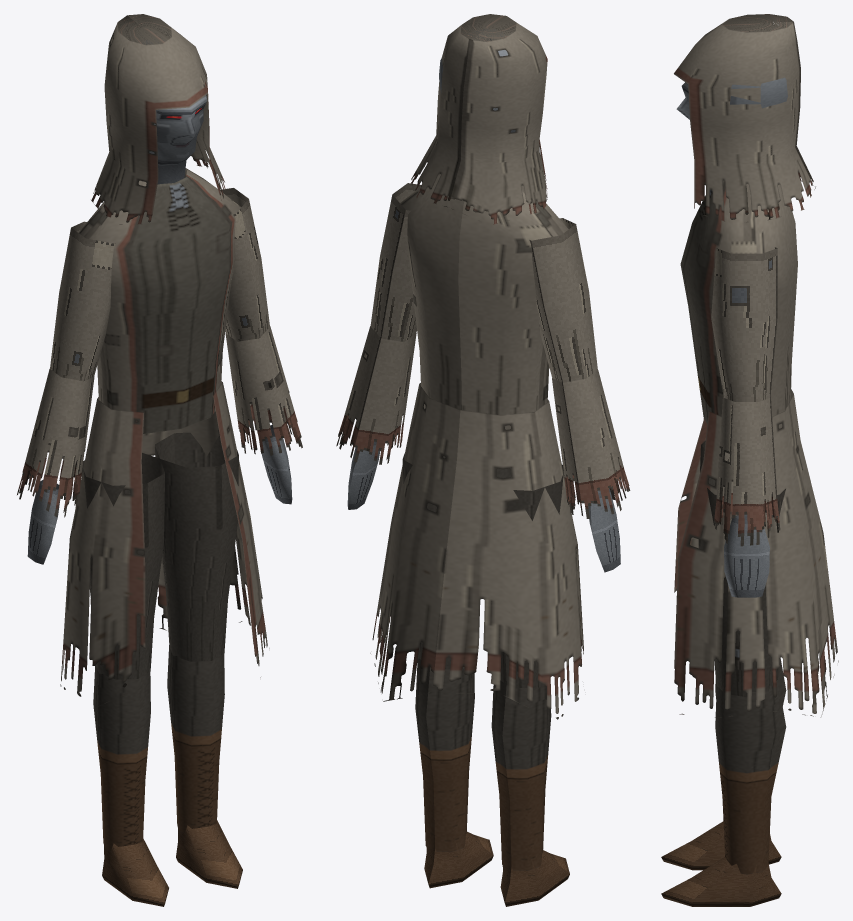
The model's file is wanderer_ragged_bleached.obj.
3 views of the same model, side by side, from view 1: azimuth 30°, elevation 25°; view 2: azimuth 150°, elevation 25°; view 3: azimuth 270°, elevation 25° (orthographic). The views are drawn at different scales.
Parts seen in each view (by area): view 1: Chest, Groin, Hood, Upper_Leg_L, Knee_Ankle_L, Knee_Ankle_R, Upper_Arm_R, Forearm_R, Forearm_L, Upper_Leg_R, Upper_Arm_L, Foot_L (+4 smaller); view 2: Groin, Chest, Hood, Knee_Ankle_R, Knee_Ankle_L, Upper_Arm_R, Forearm_R, Forearm_L, Upper_Arm_L, Foot_L, Foot_R, Upper_Leg_R (+2 smaller); view 3: Groin, Hood, Chest, Knee_Ankle_L, Upper_Arm_L, Forearm_L, Foot_L, Hand_L, Upper_Leg_L, Foot_R, Head.
Part boxes in pixels (<box>): Chest: <box>78,168,241,433</box>; Groin: <box>60,381,269,708</box>; Hood: <box>91,14,225,224</box>; Upper_Leg_L: <box>155,432,238,661</box>; Knee_Ankle_L: <box>167,645,224,832</box>; Knee_Ankle_R: <box>93,665,150,850</box>; Upper_Arm_R: <box>50,221,115,381</box>; Forearm_R: <box>17,369,94,517</box>; Forearm_L: <box>225,326,302,455</box>; Upper_Leg_R: <box>81,453,164,679</box>; Upper_Arm_L: <box>220,188,269,341</box>; Foot_L: <box>176,820,242,888</box>; Groin: <box>370,383,583,719</box>; Chest: <box>400,173,568,429</box>; Hood: <box>411,14,547,224</box>; Knee_Ankle_R: <box>491,680,551,870</box>; Knee_Ankle_L: <box>415,658,474,852</box>; Upper_Arm_R: <box>529,218,597,382</box>; Forearm_R: <box>552,370,630,518</box>; Forearm_L: <box>336,326,416,464</box>; Upper_Arm_L: <box>370,183,421,341</box>; Foot_L: <box>424,831,493,888</box>; Foot_R: <box>500,850,569,906</box>; Upper_Leg_R: <box>496,464,564,689</box>; Groin: <box>674,389,838,717</box>; Hood: <box>674,14,815,222</box>; Chest: <box>680,180,797,428</box>; Knee_Ankle_L: <box>715,680,786,874</box>; Upper_Arm_L: <box>711,247,777,401</box>; Forearm_L: <box>714,397,780,546</box>; Foot_L: <box>661,857,781,906</box>; Hand_L: <box>724,514,769,597</box>; Upper_Leg_L: <box>698,478,785,697</box>; Foot_R: <box>661,821,781,870</box>; Head: <box>676,77,787,119</box>.
Size of the model in its own units: 0.633 by 1.84 by 0.348.
10 materials, 10 textured.
